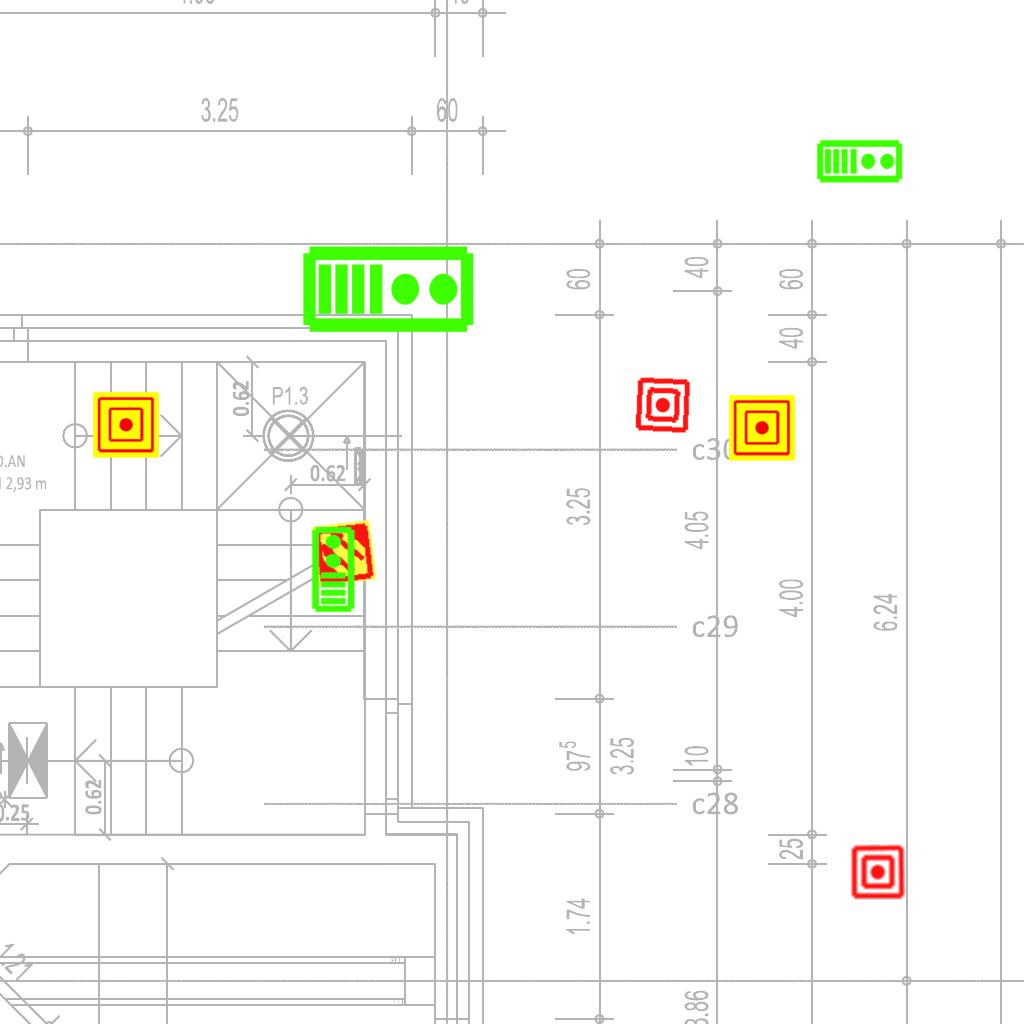ASR_Ansaugrauchmelder: (309, 518, 379, 588)
Gegensprechanlage_mit_Video: (301, 240, 477, 335), (816, 137, 904, 184), (309, 525, 356, 613)
NAM-Nichtautomatischer_Melder: (729, 395, 795, 461), (93, 392, 159, 458), (633, 375, 693, 435), (850, 844, 906, 900)
